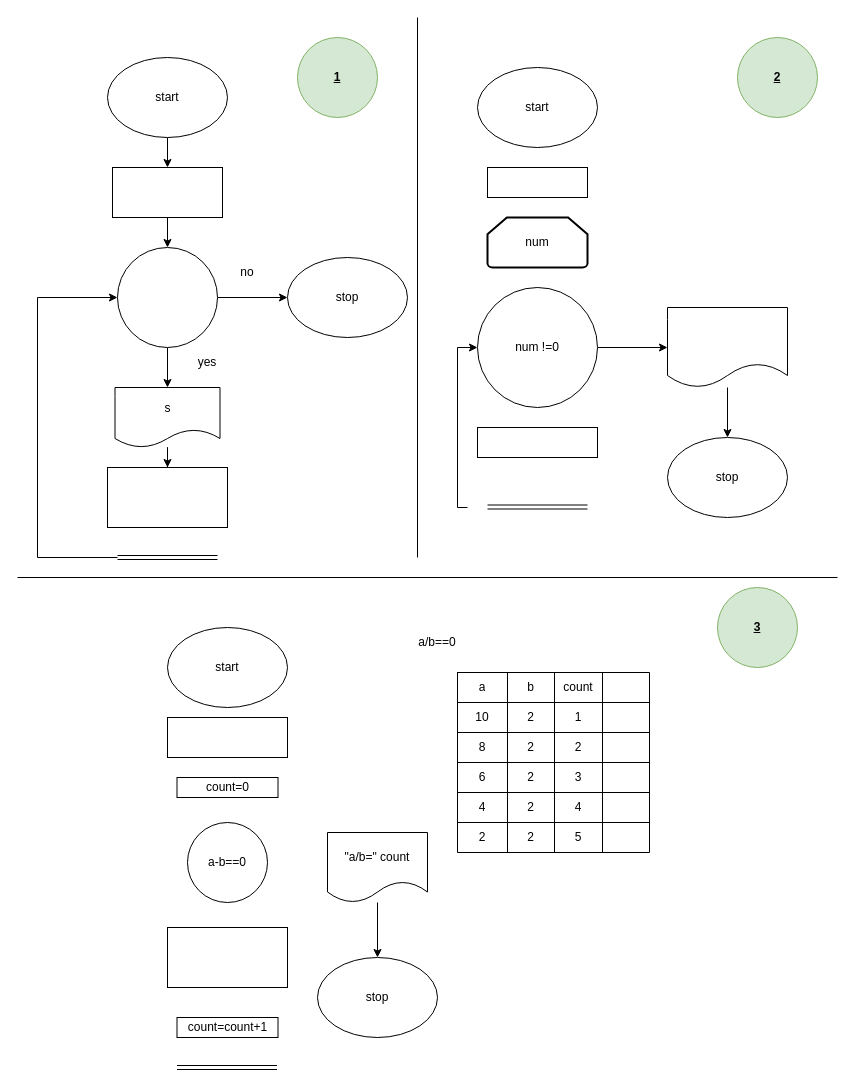
This 856x1087 diagram has some shape labels left out. The centre of each missing label's shape, as x and y in pixels:
a b: [227,737]
a=a-b: [227,957]
s<=20: [167,297]
s=10: [167,192]
s=s+2: [167,497]
sum: [727,347]
sum=0: [537,182]
sum=sum+1: [537,442]
